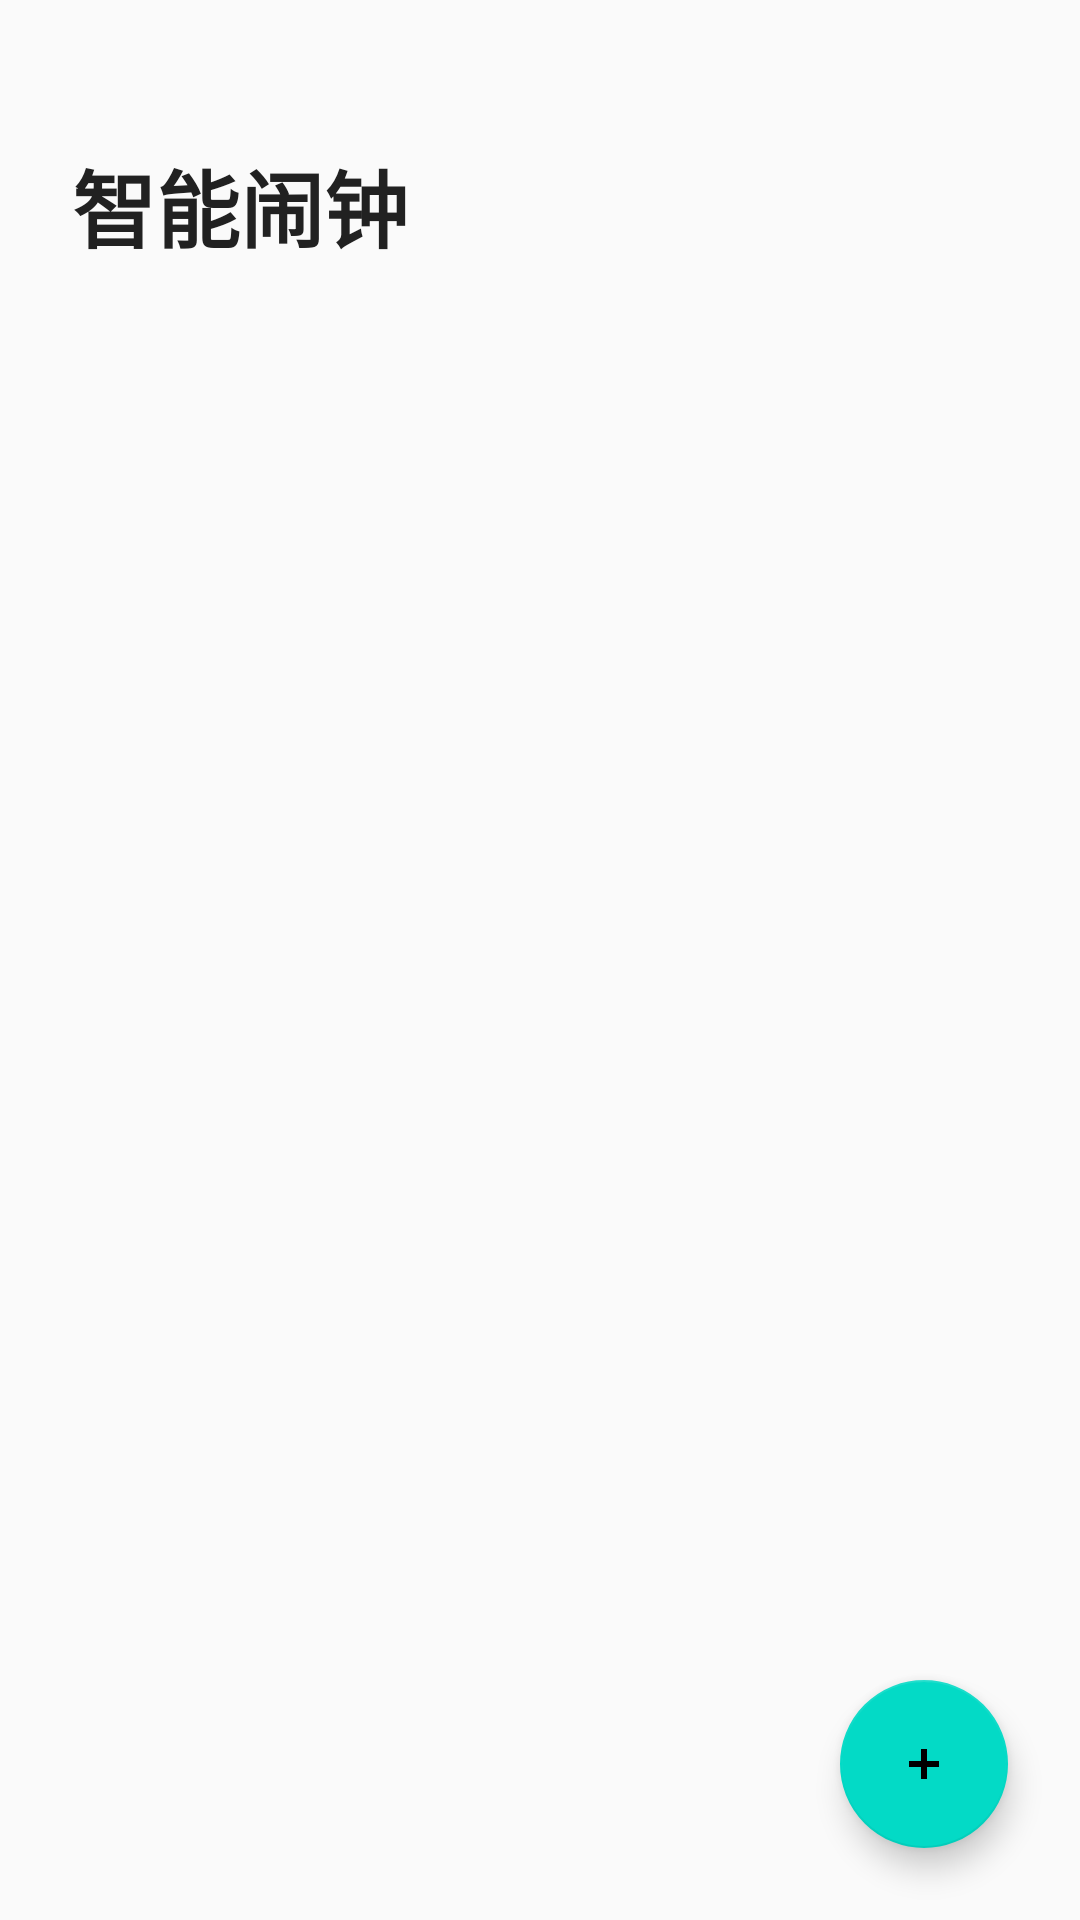

Named icons in this screenshot (1080×1920) and their bounding boxes, (x1, y1, x2, y2):
添加闹钟: (840, 1680, 1008, 1848)
